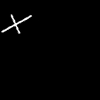single_crochet: (2, 15, 30, 32)
